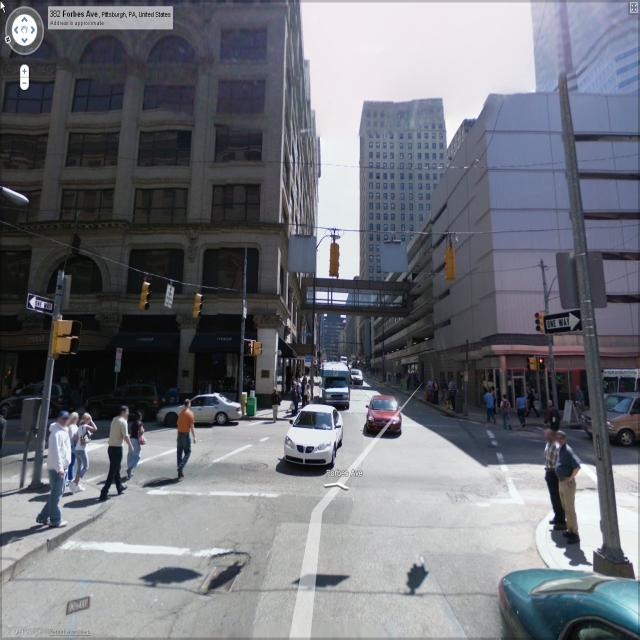b_1: (5, 2, 317, 376), (365, 96, 637, 396), (354, 95, 448, 282), (529, 1, 640, 99)
